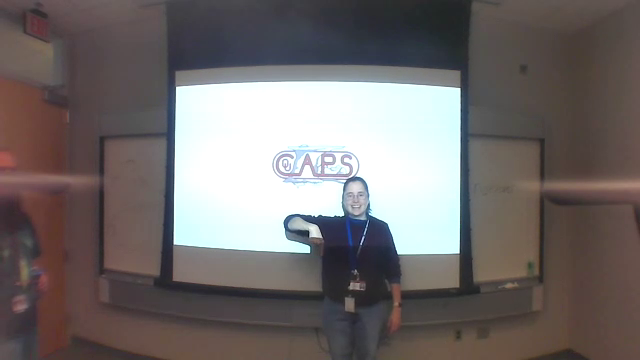down: (307, 223, 326, 256)
